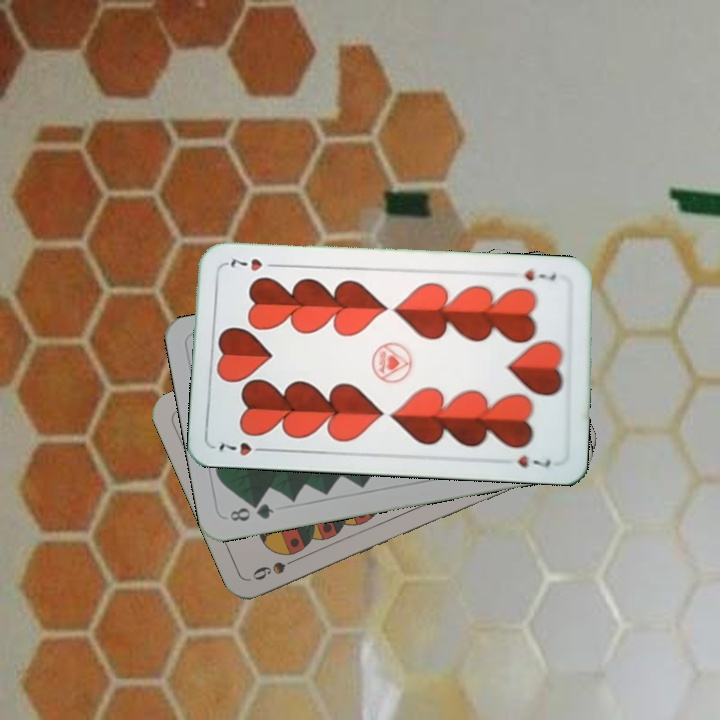G8: (225, 499, 277, 524)
H7: (214, 437, 271, 458), (520, 264, 558, 284)
S9: (248, 552, 305, 583)
